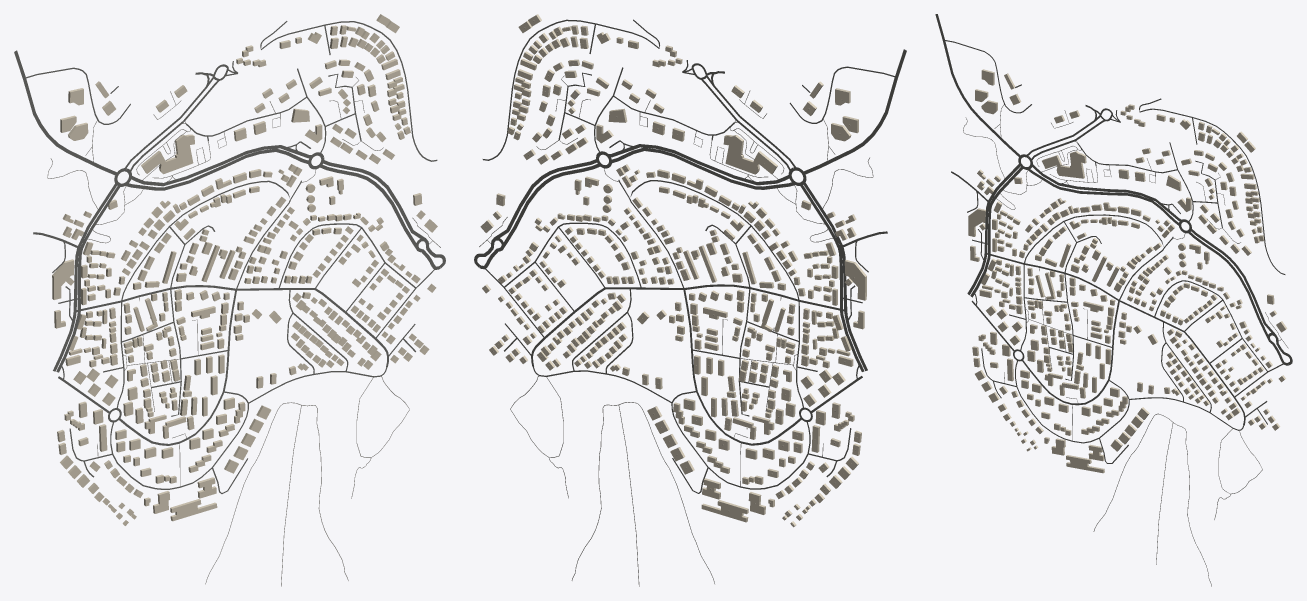
Rendered from historic-palestine-10_32_3524_3267.glb.
3 renders of one model, left to right at view 1: azimuth 30°, elevation 25°; view 2: azimuth 150°, elevation 25°; view 3: azimuth 330°, elevation 25°, orthographic. The views are drawn at different scales.
Visible parts, largest first — view 1: Road חטיבת גולני, Building_.001, Road שדרות הבנים, Road שדרות הבנים.002, Road שדרות צבי אלדרוטי.001, Road שדרות צבי אלדרוטי, Road שדרות הבנים.001, Road הנשיאים, Road קרן היסוד.001, Road השוהם, Road שדרות הבנים.004, Road שדרות הבנים.003 (+1 smaller); view 2: Road חטיבת גולני, Building_.001, Road שדרות הבנים, Road שדרות הבנים.002, Road שדרות הבנים.001, Road שדרות צבי אלדרוטי, Road שדרות צבי אלדרוטי.001, Road הנשיאים, Road קרן היסוד.001, Road השוהם, Road שדרות הבנים.004, Road שדרות הבנים.003 (+1 smaller); view 3: Road חטיבת גולני, Building_.001, Road שדרות הבנים, Road שדרות הבנים.002, Road שדרות הבנים.001, Road שדרות צבי אלדרוטי.001, Road שדרות צבי אלדרוטי, Road הנשיאים.
Boxes of the visible parts, box(x1,y1,x2,y2) form: Road חטיבת גולני: box(75, 285, 388, 366); Building_.001: box(159, 134, 194, 174); Road שדרות הבנים: box(125, 148, 310, 190); Road שדרות הבנים.002: box(130, 145, 311, 186); Road שדרות צבי אלדרוטי.001: box(53, 182, 117, 371); Road שדרות צבי אלדרוטי: box(56, 184, 120, 372); Road שדרות הבנים.001: box(14, 50, 116, 175); Road הנשיאים: box(116, 180, 301, 407); Road קרן היסוד.001: box(118, 290, 236, 445); Road השוהם: box(260, 21, 437, 161); Road שדרות הבנים.004: box(322, 160, 425, 240); Road שדרות הבנים.003: box(320, 164, 417, 248); Road חטיבת גולני: box(531, 284, 845, 366); Building_.001: box(723, 135, 759, 174); Road שדרות הבנים: box(610, 147, 795, 189); Road שדרות הבנים.002: box(608, 144, 789, 185); Road שדרות הבנים.001: box(803, 49, 906, 174); Road שדרות צבי אלדרוטי: box(800, 184, 864, 371); Road שדרות צבי אלדרוטי.001: box(803, 182, 867, 370); Road הנשיאים: box(618, 180, 803, 407); Road קרן היסוד.001: box(683, 289, 801, 445); Road השוהם: box(482, 19, 659, 160); Road שדרות הבנים.004: box(494, 159, 598, 240); Road שדרות הבנים.003: box(502, 164, 600, 247); Road חטיבת גולני: box(986, 253, 1245, 425); Building_.001: box(1056, 151, 1086, 178); Road שדרות הבנים: box(1027, 169, 1179, 225); Road שדרות הבנים.002: box(1032, 164, 1181, 221); Road שדרות הבנים.001: box(935, 14, 1020, 156); Road שדרות צבי אלדרוטי.001: box(967, 163, 1020, 295); Road שדרות צבי אלדרוטי: box(970, 167, 1022, 297); Road הנשיאים: box(1020, 214, 1173, 350).
Size of the model in its own units: 1092 by 1478 by 8.7.
